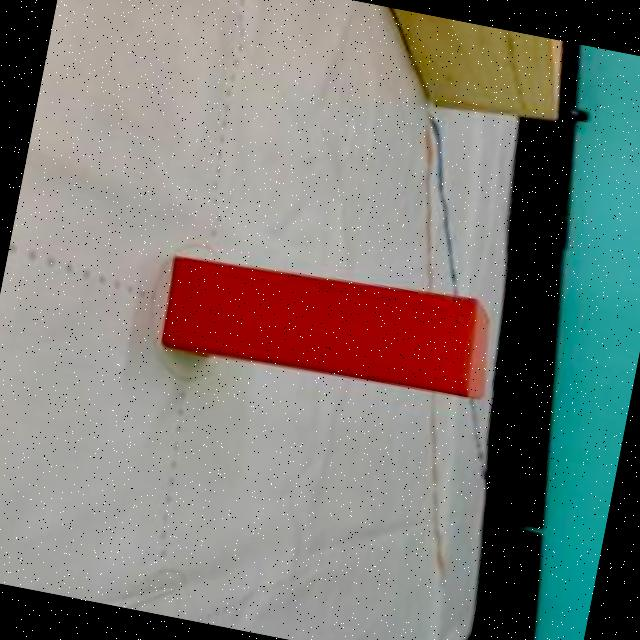redbox: (157, 240, 497, 407)
